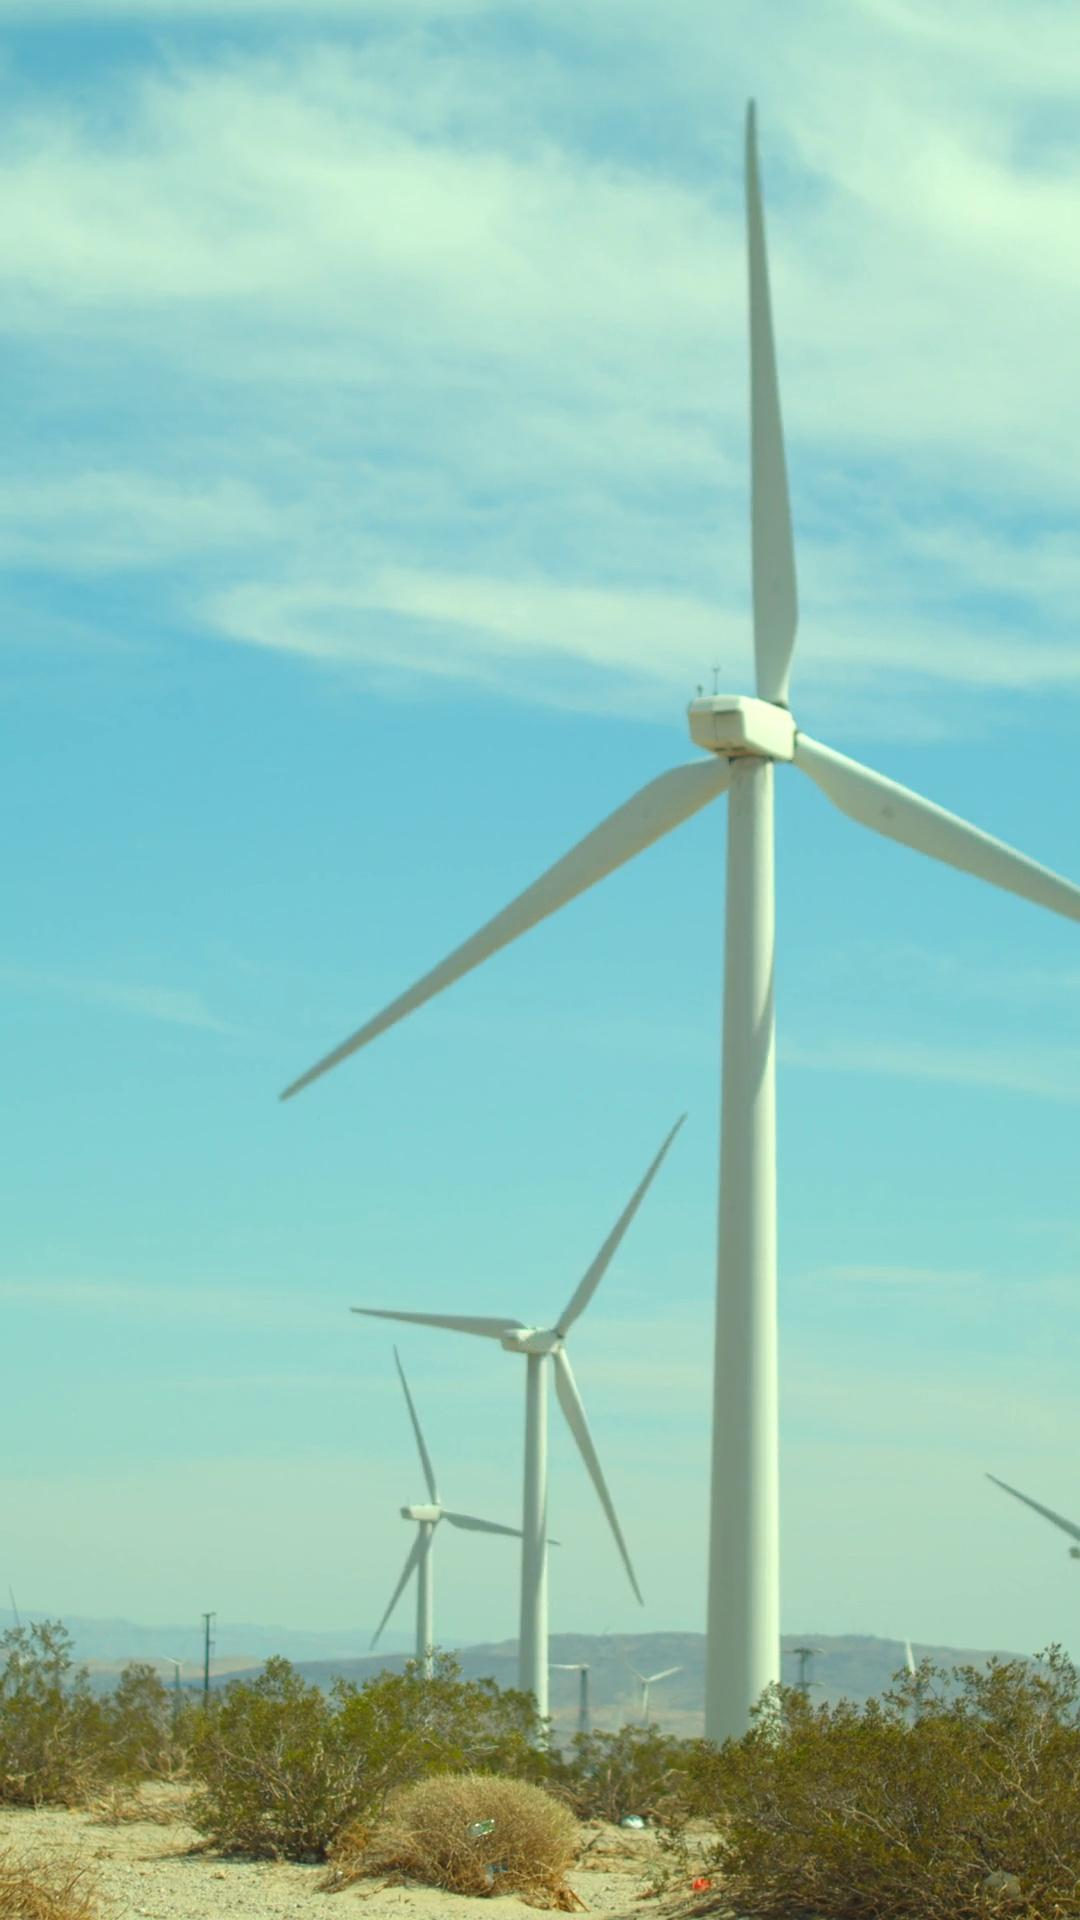cable tower: (183, 1602, 229, 1706)
turbine: (173, 142, 1080, 1829), (373, 1100, 758, 1792), (320, 1307, 529, 1797), (589, 1619, 702, 1776)
